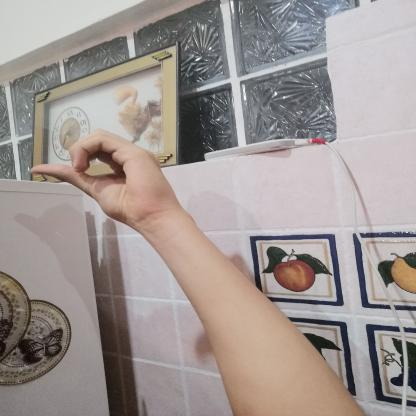WAW: (18, 122, 182, 231)
